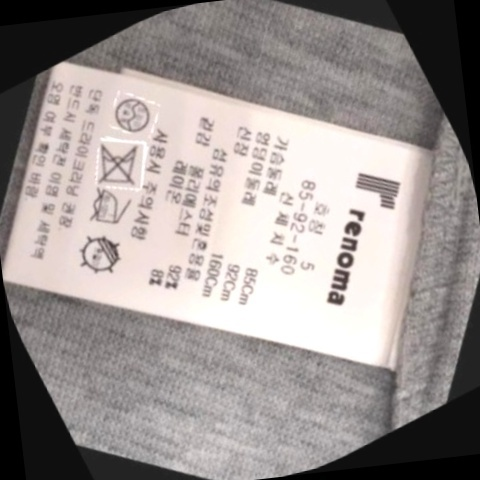DN_wash: (84, 129, 158, 197)
dry_clean_petrol_only: (104, 84, 163, 142)
iron_low: (76, 178, 141, 240)
line_dry_in_shade: (69, 222, 139, 286)
